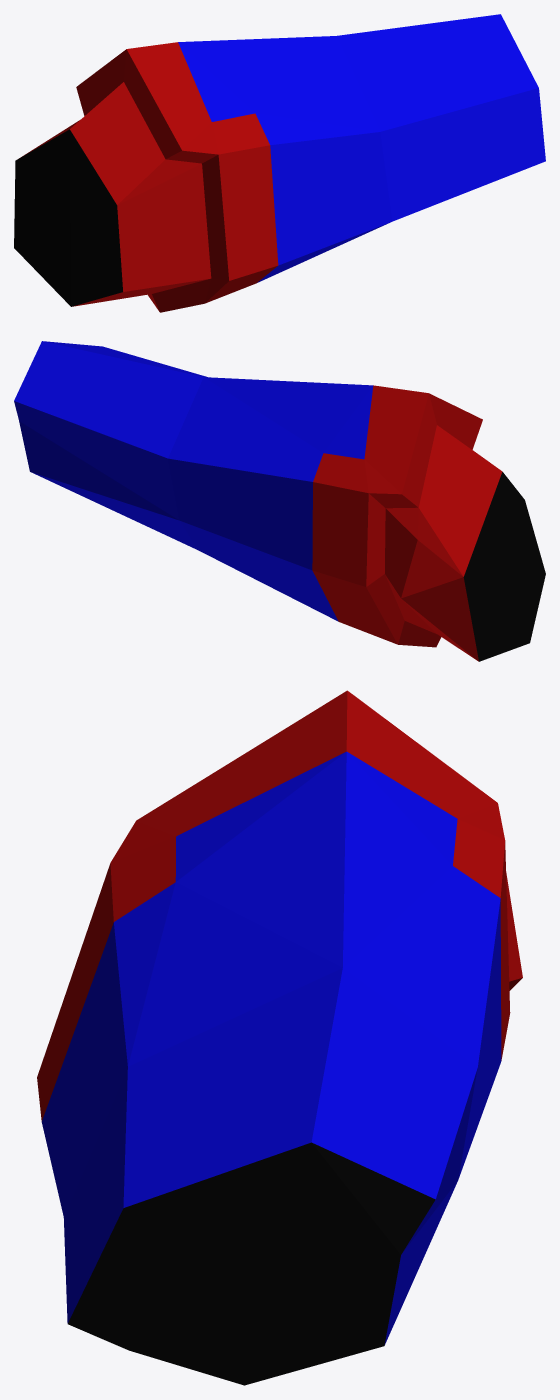
The model's file is Chr_ArmLowerLeft_Male_Static_05.fbx.
The picture shows the model from 3 angles, top to bottom: view 1: azimuth 30°, elevation 25°; view 2: azimuth 150°, elevation 25°; view 3: azimuth 270°, elevation 25°; orthographic projection. The views are drawn at different scales.
Parts seen in each view (by area): view 1: Chr_ArmLowerLeft_Male_05; view 2: Chr_ArmLowerLeft_Male_05; view 3: Chr_ArmLowerLeft_Male_05.
Boxes of the visible parts, x1,y1,x2,y2 form: Chr_ArmLowerLeft_Male_05: (14,14,545,312); Chr_ArmLowerLeft_Male_05: (14,341,545,661); Chr_ArmLowerLeft_Male_05: (37,690,522,1385).
Size of the model in its own units: 28.49 by 15.44 by 13.48.
